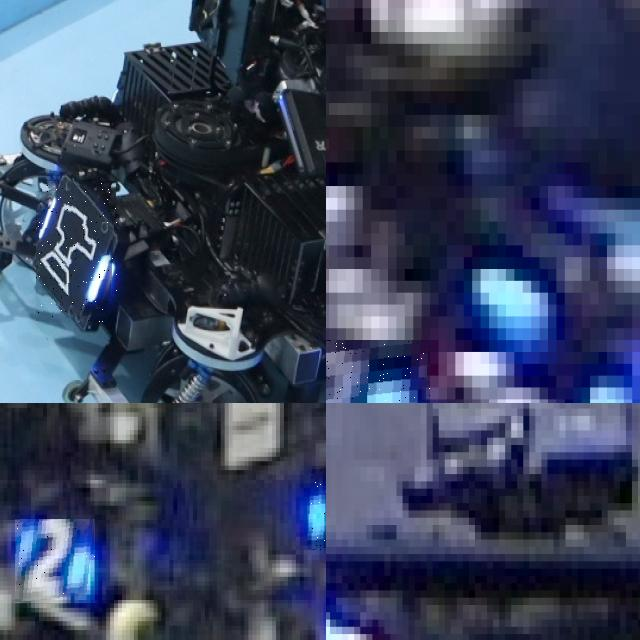B2: (15, 519, 95, 603), (307, 465, 326, 550)
Bs: (36, 181, 117, 322)
